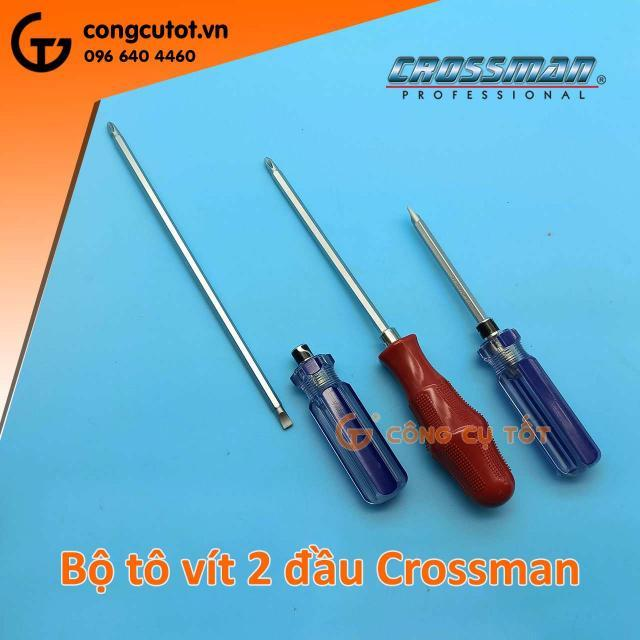screwdriver: (260, 155, 522, 510), (404, 206, 608, 483)
